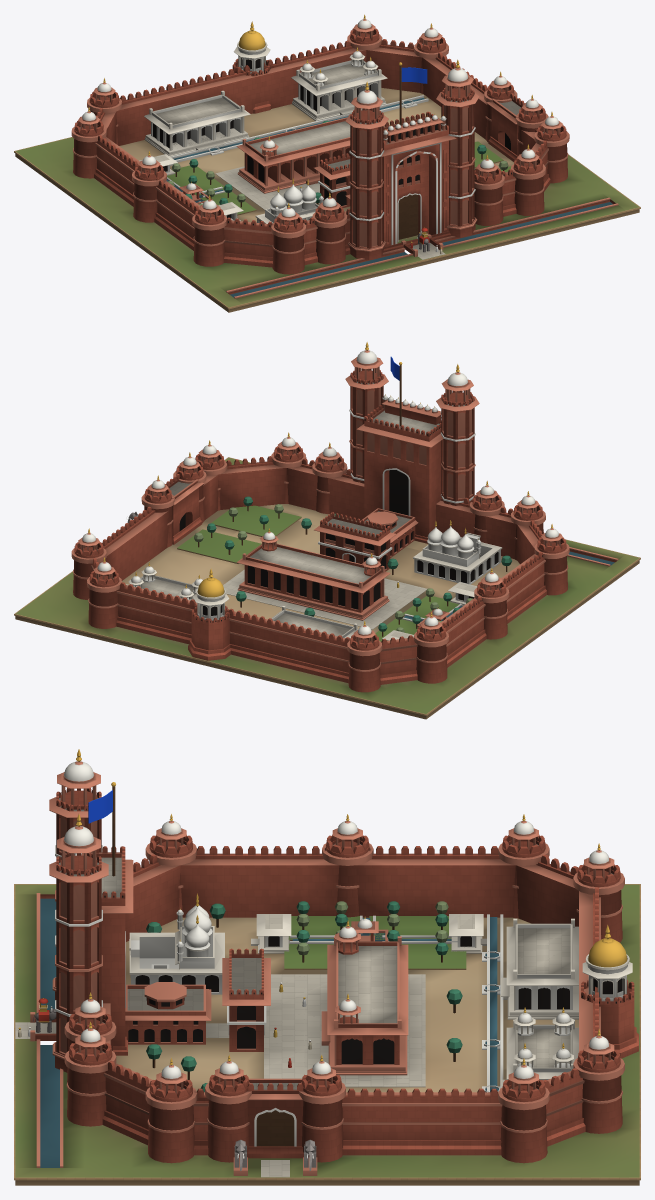
Rendered from lm_kizilkale.glb.
The picture shows the model from 3 angles, top to bottom: view 1: azimuth 30°, elevation 25°; view 2: azimuth 150°, elevation 25°; view 3: azimuth 270°, elevation 25°; orthographic projection. The views are drawn at different scales.
Visible parts, largest first — view 1: lm_kizilkale; view 2: lm_kizilkale; view 3: lm_kizilkale.
Boxes of the visible parts, x1,y1,x2,y2 form: lm_kizilkale: [14, 14, 640, 312]; lm_kizilkale: [14, 342, 640, 719]; lm_kizilkale: [14, 749, 640, 1185].
Size of the model in its own units: 2.41 by 0.986 by 2.17.
1 material, 1 textured.
